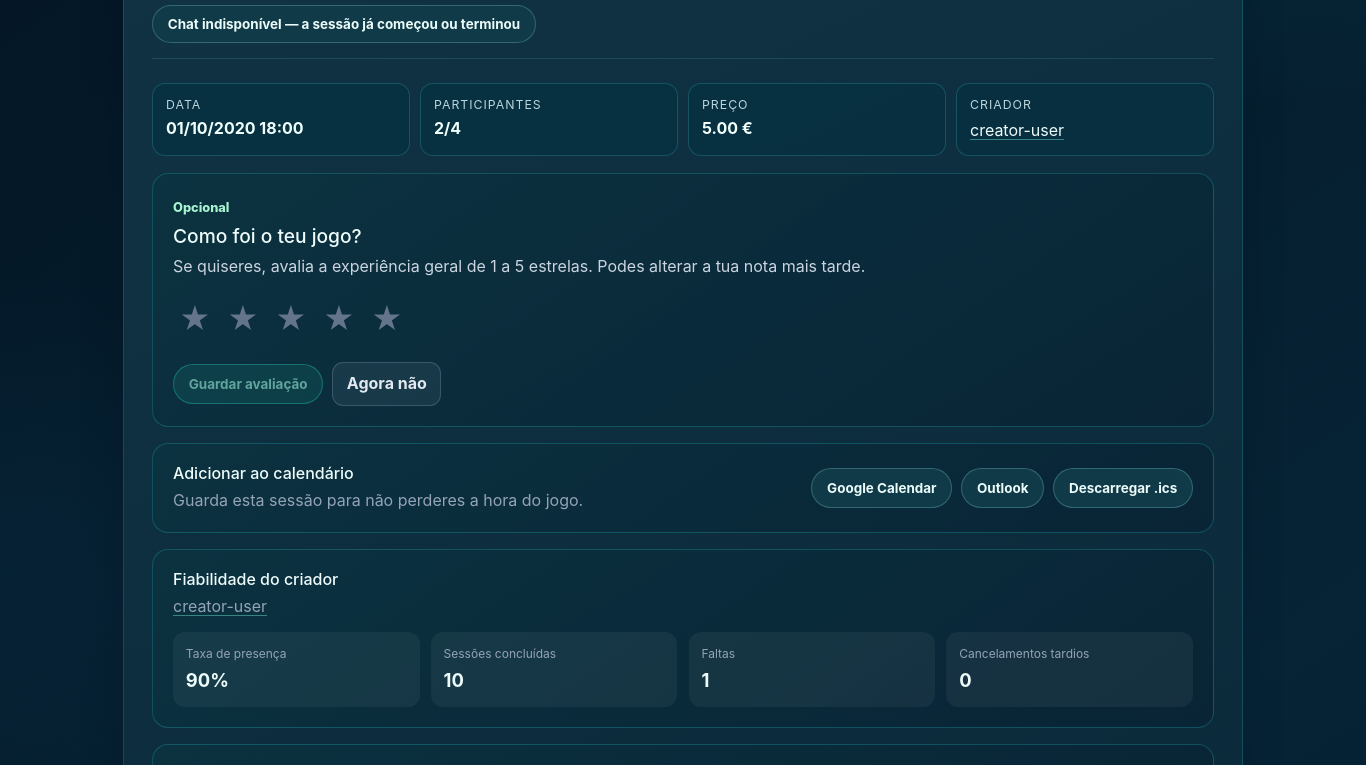
Test case: SessionDetailsComponent › can skip the rating without sending it or changing attendance
(page scrolled)
Click the button with class "overall-rating-skip": coordinates (387, 384) [332, 362, 441, 406]
(page scrolled)
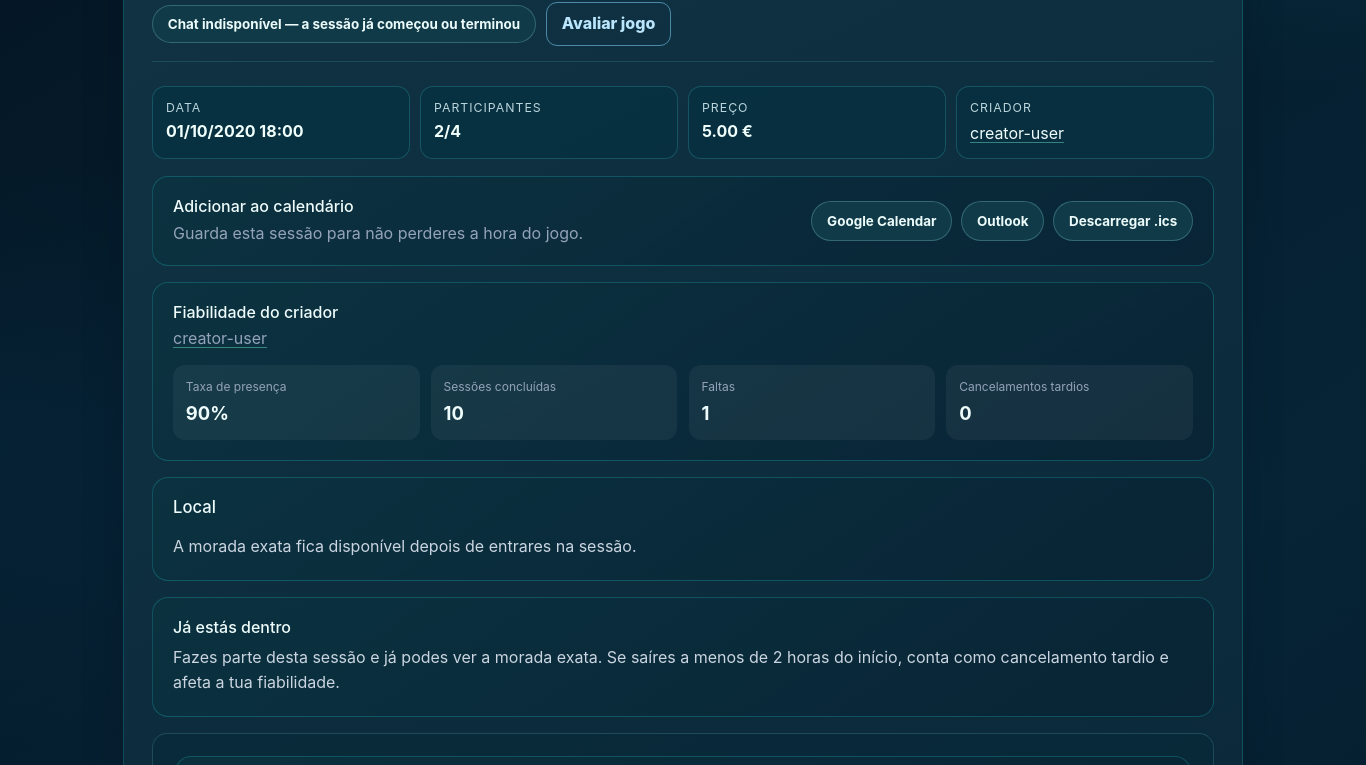
expect the element with class "overall-rating-panel" is gone: met
